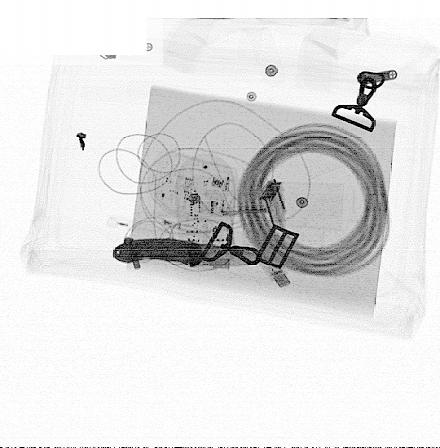Knife: (110, 237, 272, 269)
